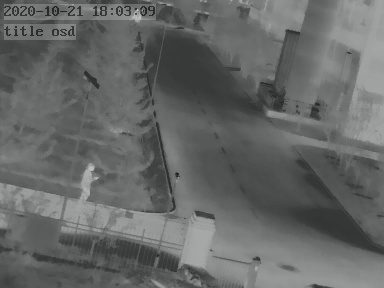person: (76, 161, 98, 204)
